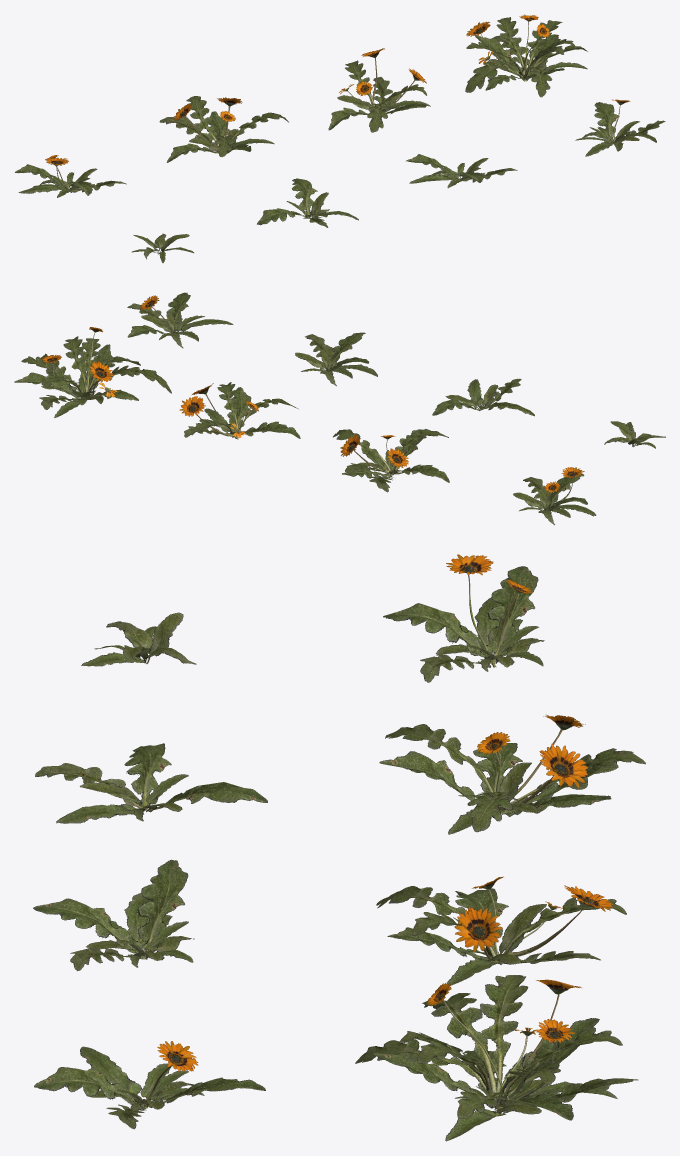
Rendered from flower_gazania.gltf.
3 views of the same model, one above another, from view 1: azimuth 30°, elevation 25°; view 2: azimuth 150°, elevation 25°; view 3: azimuth 270°, elevation 25° (orthographic). The views are drawn at different scales.
Parts seen in each view (by area): view 1: flower_gazania_h_LOD0, flower_gazania_f_LOD0, flower_gazania_g_LOD0, flower_gazania_d_LOD0, flower_gazania_e_LOD0, flower_gazania_b_LOD0, flower_gazania_c_LOD0, flower_gazania_a_LOD0; view 2: flower_gazania_h_LOD0, flower_gazania_g_LOD0, flower_gazania_f_LOD0, flower_gazania_d_LOD0, flower_gazania_e_LOD0, flower_gazania_c_LOD0, flower_gazania_b_LOD0, flower_gazania_a_LOD0; view 3: flower_gazania_h_LOD0, flower_gazania_f_LOD0, flower_gazania_g_LOD0, flower_gazania_e_LOD0, flower_gazania_c_LOD0, flower_gazania_d_LOD0, flower_gazania_b_LOD0, flower_gazania_a_LOD0.
Boxes of the visible parts, x1,y1,x2,y2 form: flower_gazania_h_LOD0: [465, 14, 587, 97]; flower_gazania_f_LOD0: [159, 96, 288, 162]; flower_gazania_g_LOD0: [328, 48, 430, 132]; flower_gazania_d_LOD0: [575, 99, 665, 156]; flower_gazania_e_LOD0: [15, 155, 126, 197]; flower_gazania_b_LOD0: [257, 178, 358, 227]; flower_gazania_c_LOD0: [406, 154, 517, 188]; flower_gazania_a_LOD0: [131, 233, 193, 262]; flower_gazania_h_LOD0: [14, 327, 171, 417]; flower_gazania_g_LOD0: [179, 382, 300, 439]; flower_gazania_f_LOD0: [333, 429, 449, 492]; flower_gazania_d_LOD0: [127, 292, 233, 348]; flower_gazania_e_LOD0: [513, 467, 596, 525]; flower_gazania_c_LOD0: [295, 332, 377, 386]; flower_gazania_b_LOD0: [432, 378, 534, 416]; flower_gazania_a_LOD0: [604, 421, 665, 448]; flower_gazania_h_LOD0: [355, 975, 638, 1141]; flower_gazania_f_LOD0: [379, 714, 645, 834]; flower_gazania_g_LOD0: [376, 876, 626, 985]; flower_gazania_e_LOD0: [383, 554, 544, 682]; flower_gazania_c_LOD0: [33, 859, 194, 970]; flower_gazania_d_LOD0: [34, 1041, 265, 1129]; flower_gazania_b_LOD0: [35, 743, 267, 823]; flower_gazania_a_LOD0: [81, 612, 196, 666].
Size of the model in its own units: 1.48 by 0.1655 by 0.7028.
1 material, 1 textured.
